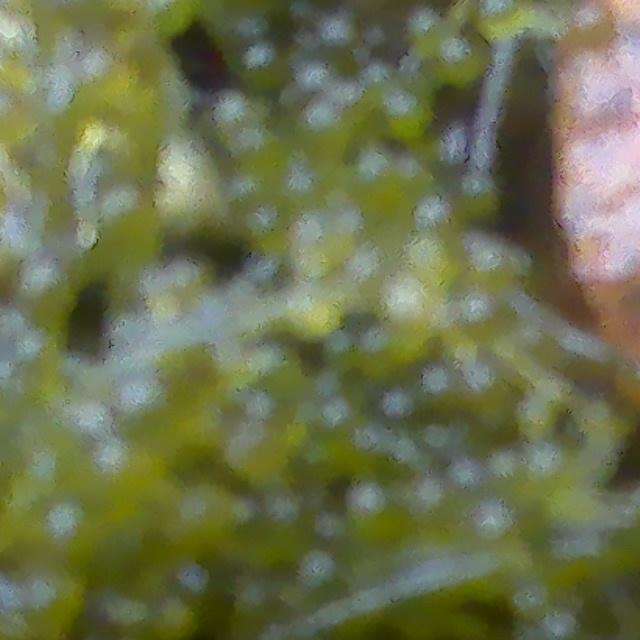SeaGrape: (45, 500, 104, 564), (98, 439, 158, 493), (381, 89, 431, 138), (438, 36, 479, 79), (474, 0, 524, 35)
